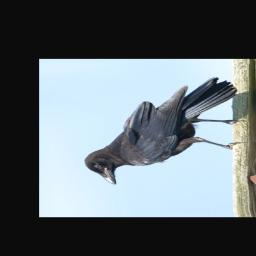Crow: (72, 76, 252, 186)
